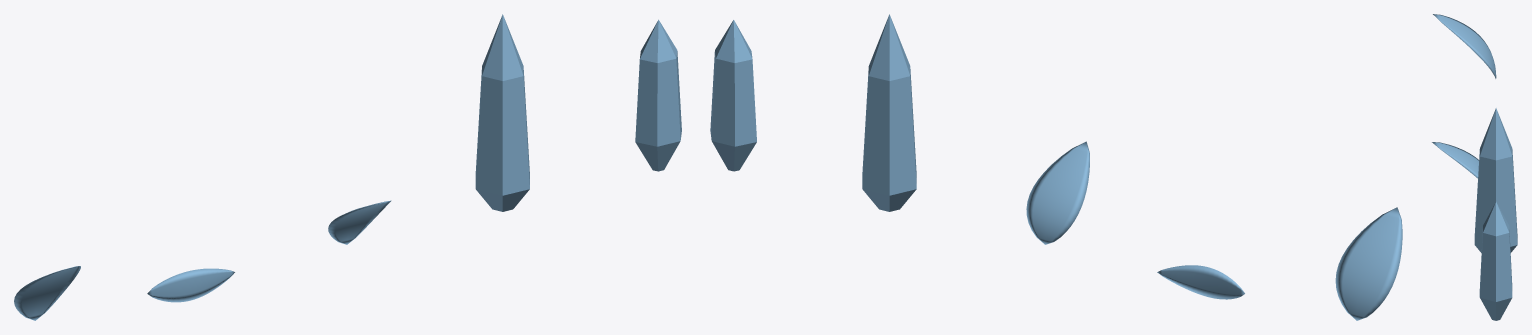
The model's file is effect-surfaces.glb.
3 views of the same model, side by side, from view 1: azimuth 30°, elevation 25°; view 2: azimuth 150°, elevation 25°; view 3: azimuth 270°, elevation 25° (orthographic). The views are drawn at different scales.
Parts seen in each view (by area): view 1: lunarCrystal, starCrystal, feather, frostPetal, tidePetal; view 2: lunarCrystal, starCrystal, frostPetal, tidePetal, feather; view 3: lunarCrystal, starCrystal, frostPetal, tidePetal.
Boxes of the visible parts, <box> form: lunarCrystal: <box>475,14,529,211</box>; starCrystal: <box>635,19,681,171</box>; feather: <box>147,268,234,302</box>; frostPetal: <box>14,266,80,320</box>; tidePetal: <box>328,200,391,244</box>; lunarCrystal: <box>862,14,916,211</box>; starCrystal: <box>710,20,756,171</box>; frostPetal: <box>1335,207,1402,320</box>; tidePetal: <box>1026,141,1089,244</box>; feather: <box>1157,265,1244,299</box>; lunarCrystal: <box>1474,108,1517,252</box>; starCrystal: <box>1479,201,1512,320</box>; frostPetal: <box>1433,14,1496,78</box>; tidePetal: <box>1432,142,1478,178</box>.
Size of the model in its own units: 5.2 by 1.53 by 0.7319.
